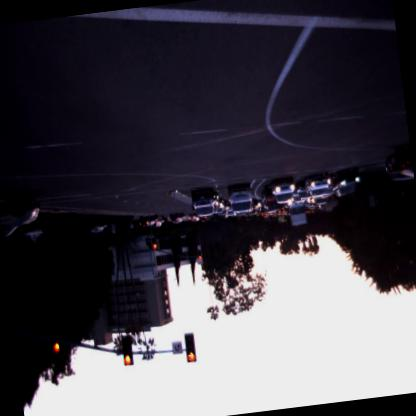trafficlight: (47, 318, 66, 354), (183, 332, 197, 364), (120, 334, 133, 366), (152, 236, 158, 250), (197, 248, 203, 260)
